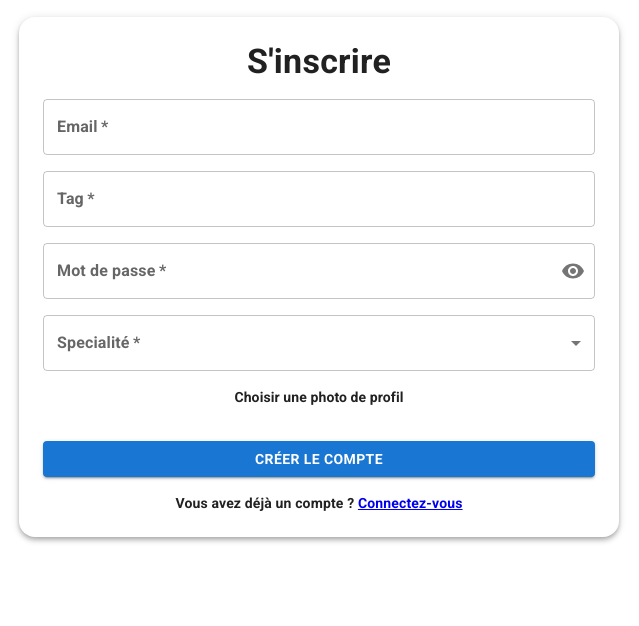
Test: RegisterPage › renders password visibility toggle
This screenshot has width=639, height=626.
Click the button named "afficher le mot de passe": (573, 271) [553,251,593,291]
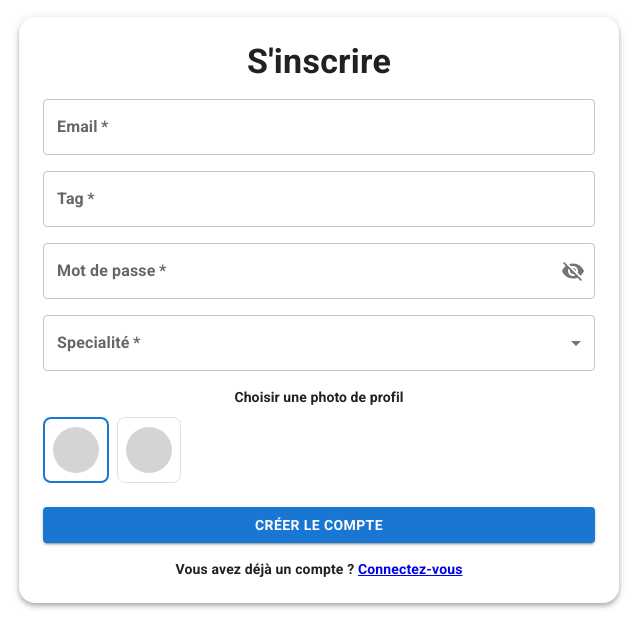
Expected: the button named "masquer le mot de passe" is shown, [553,251,593,291]
